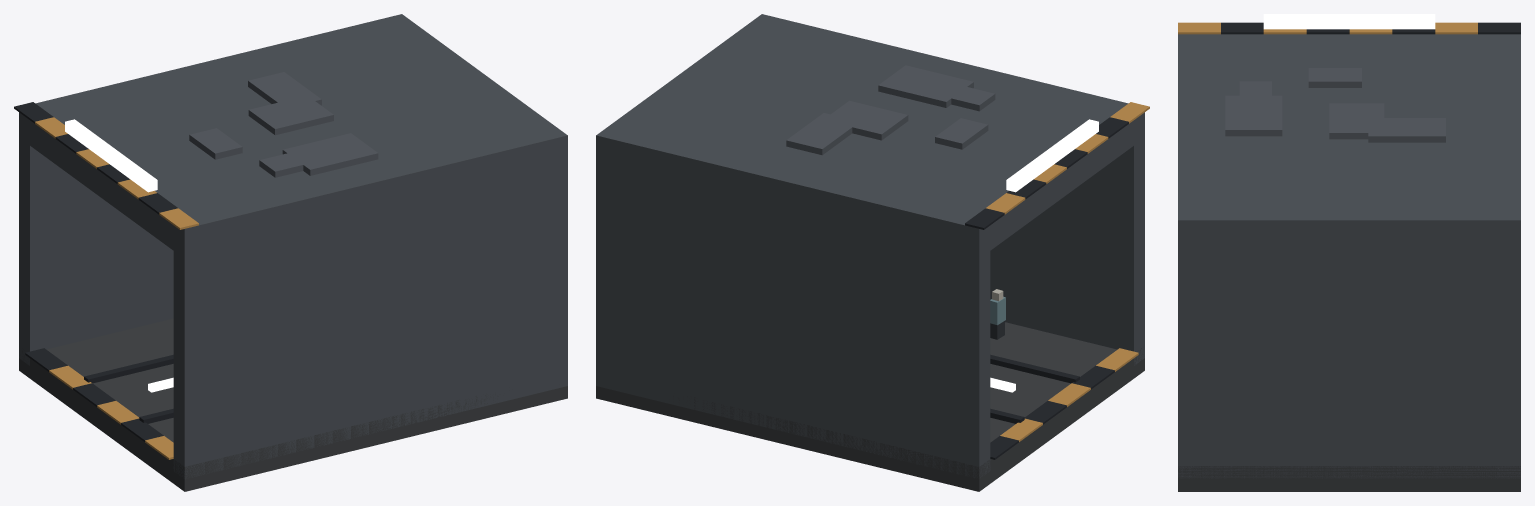
The model's file is lg_bay.glb.
3 views of the same model, side by side, from view 1: azimuth 30°, elevation 25°; view 2: azimuth 150°, elevation 25°; view 3: azimuth 270°, elevation 25° (orthographic). The views are drawn at different scales.
Visible parts, largest first — view 1: lg_bay_body, lg_bay_lit_emit; view 2: lg_bay_body, lg_bay_lit_emit; view 3: lg_bay_body, lg_bay_lit_emit.
Part boxes in pixels (x1,y1,x2,y2): lg_bay_body: (14,14,567,491); lg_bay_lit_emit: (65,119,173,392); lg_bay_body: (596,14,1149,491); lg_bay_lit_emit: (990,119,1098,392); lg_bay_body: (1178,22,1520,491); lg_bay_lit_emit: (1263,14,1435,29).
Bounding box in the file's own units: 16.2 × 11.1 × 12.
